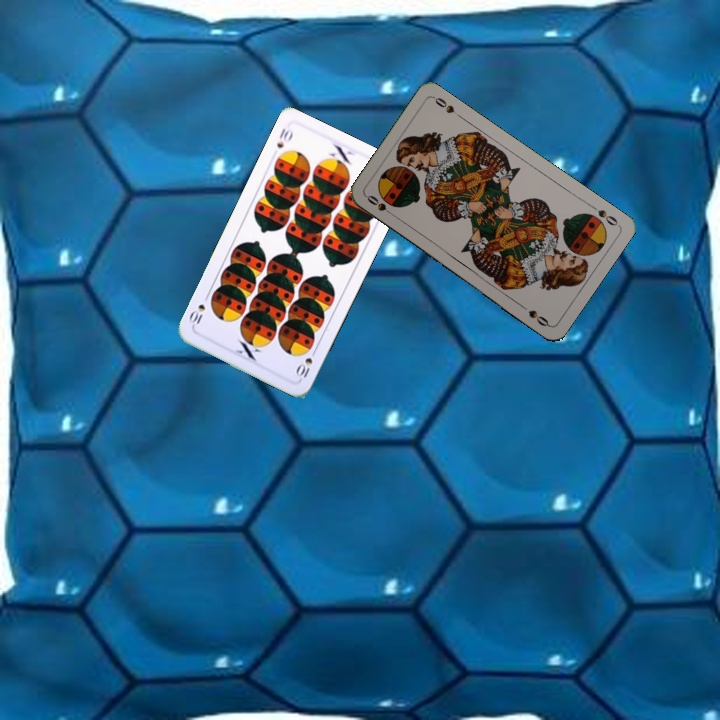S10: (291, 343, 319, 382), (273, 124, 295, 151)
SO: (362, 191, 398, 220), (585, 200, 620, 229)
